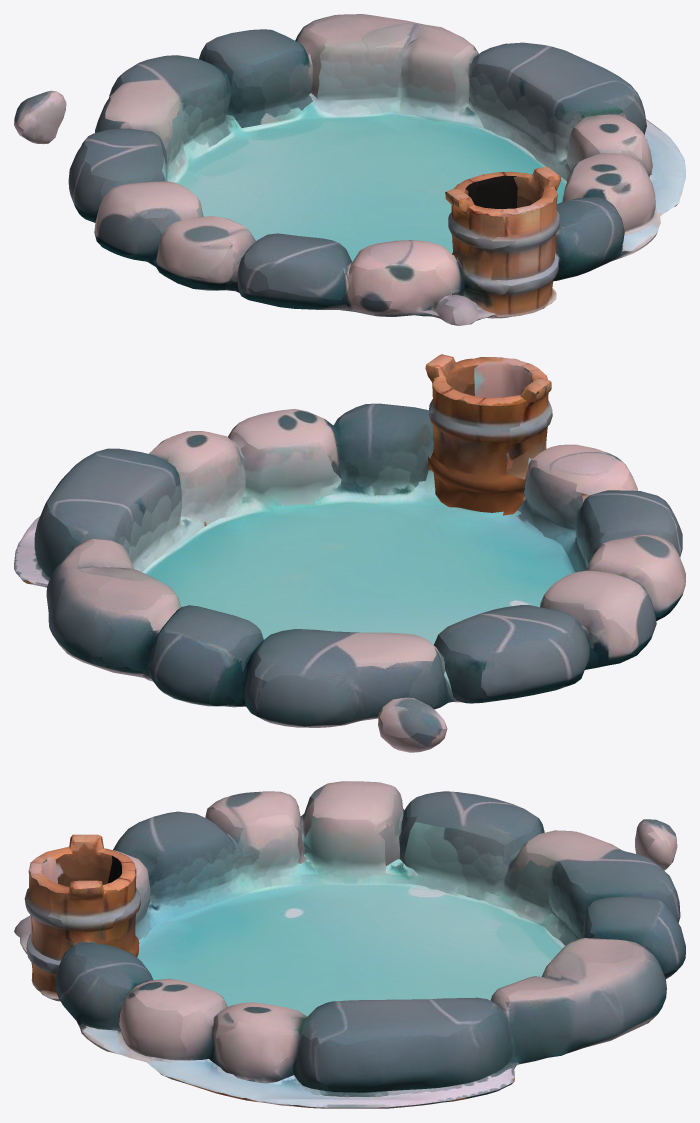
The model's file is onsen_pool.glb.
3 views of the same model, one above another, from view 1: azimuth 30°, elevation 25°; view 2: azimuth 150°, elevation 25°; view 3: azimuth 270°, elevation 25° (orthographic). The views are drawn at different scales.
Parts seen in each view (by area): view 1: onsen_pool_s71; view 2: onsen_pool_s71; view 3: onsen_pool_s71.
Part boxes in pixels (bbox=[...]): onsen_pool_s71: bbox=[14, 14, 685, 325]; onsen_pool_s71: bbox=[14, 354, 685, 752]; onsen_pool_s71: bbox=[14, 781, 685, 1108].
Bounding box in the file's own units: 0.9986 × 0.2012 × 1.
1 material, 1 textured.
